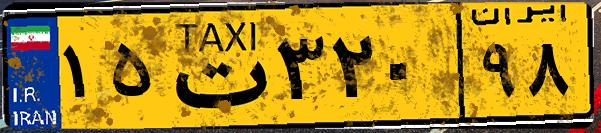0: (385, 28, 445, 110)
1: (57, 26, 110, 100)
2: (330, 28, 385, 110)
3: (270, 28, 330, 110)
5: (110, 28, 158, 98)
8: (525, 38, 570, 115)
9: (475, 38, 525, 113)
ت: (158, 12, 270, 120)
